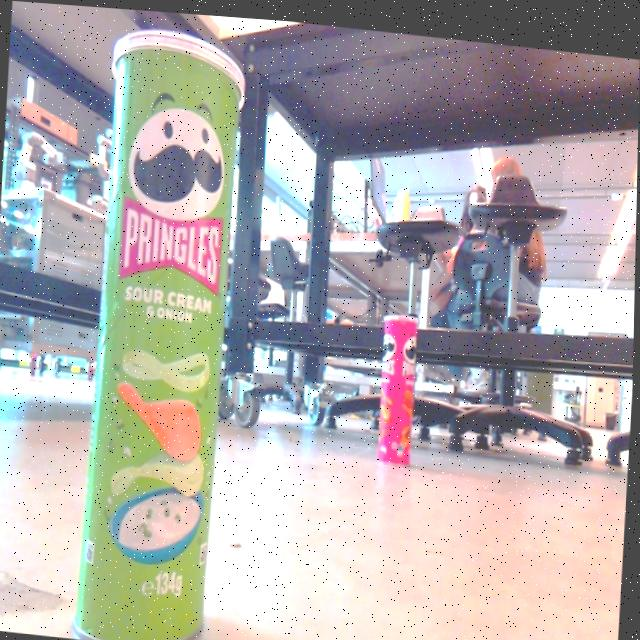greenpringles: (60, 4, 265, 640)
redpringles: (370, 300, 428, 466)
